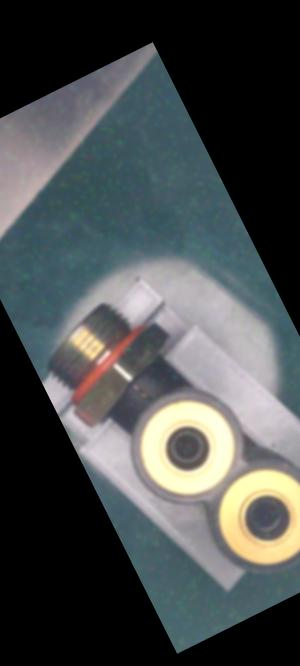craze: (130, 378, 150, 404)
